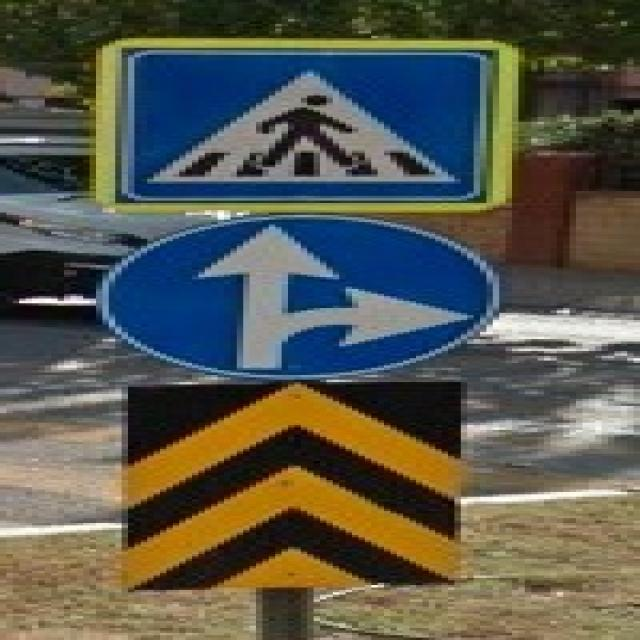Straight or Right: (107, 216, 504, 376)
